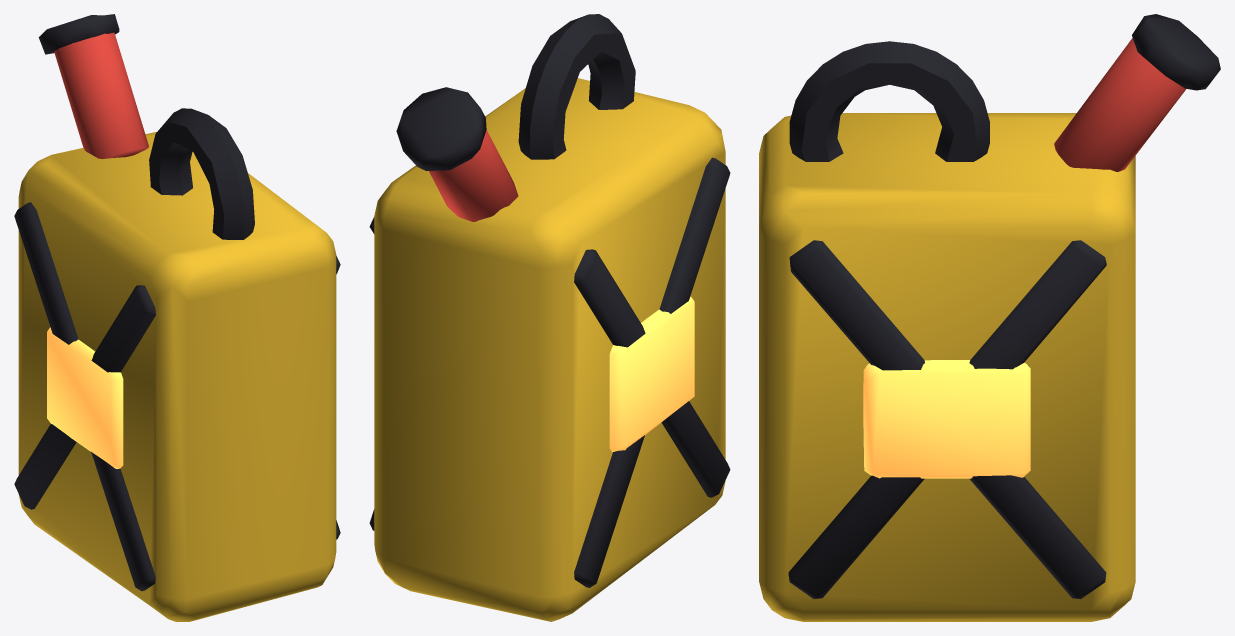
Rendered from gas_can.glb.
The picture shows the model from 3 angles, left to right: view 1: azimuth 30°, elevation 25°; view 2: azimuth 150°, elevation 25°; view 3: azimuth 270°, elevation 25°; orthographic projection. The views are drawn at different scales.
Parts seen in each view (by area): view 1: gas_can; view 2: gas_can; view 3: gas_can.
Boxes of the visible parts, box(x1,y1,x2,y2) form: gas_can: box(14, 14, 340, 621); gas_can: box(369, 14, 730, 621); gas_can: box(759, 14, 1220, 621).
Size of the model in its own units: 0.2802 by 0.6459 by 0.4811.
1 material, 1 textured.
